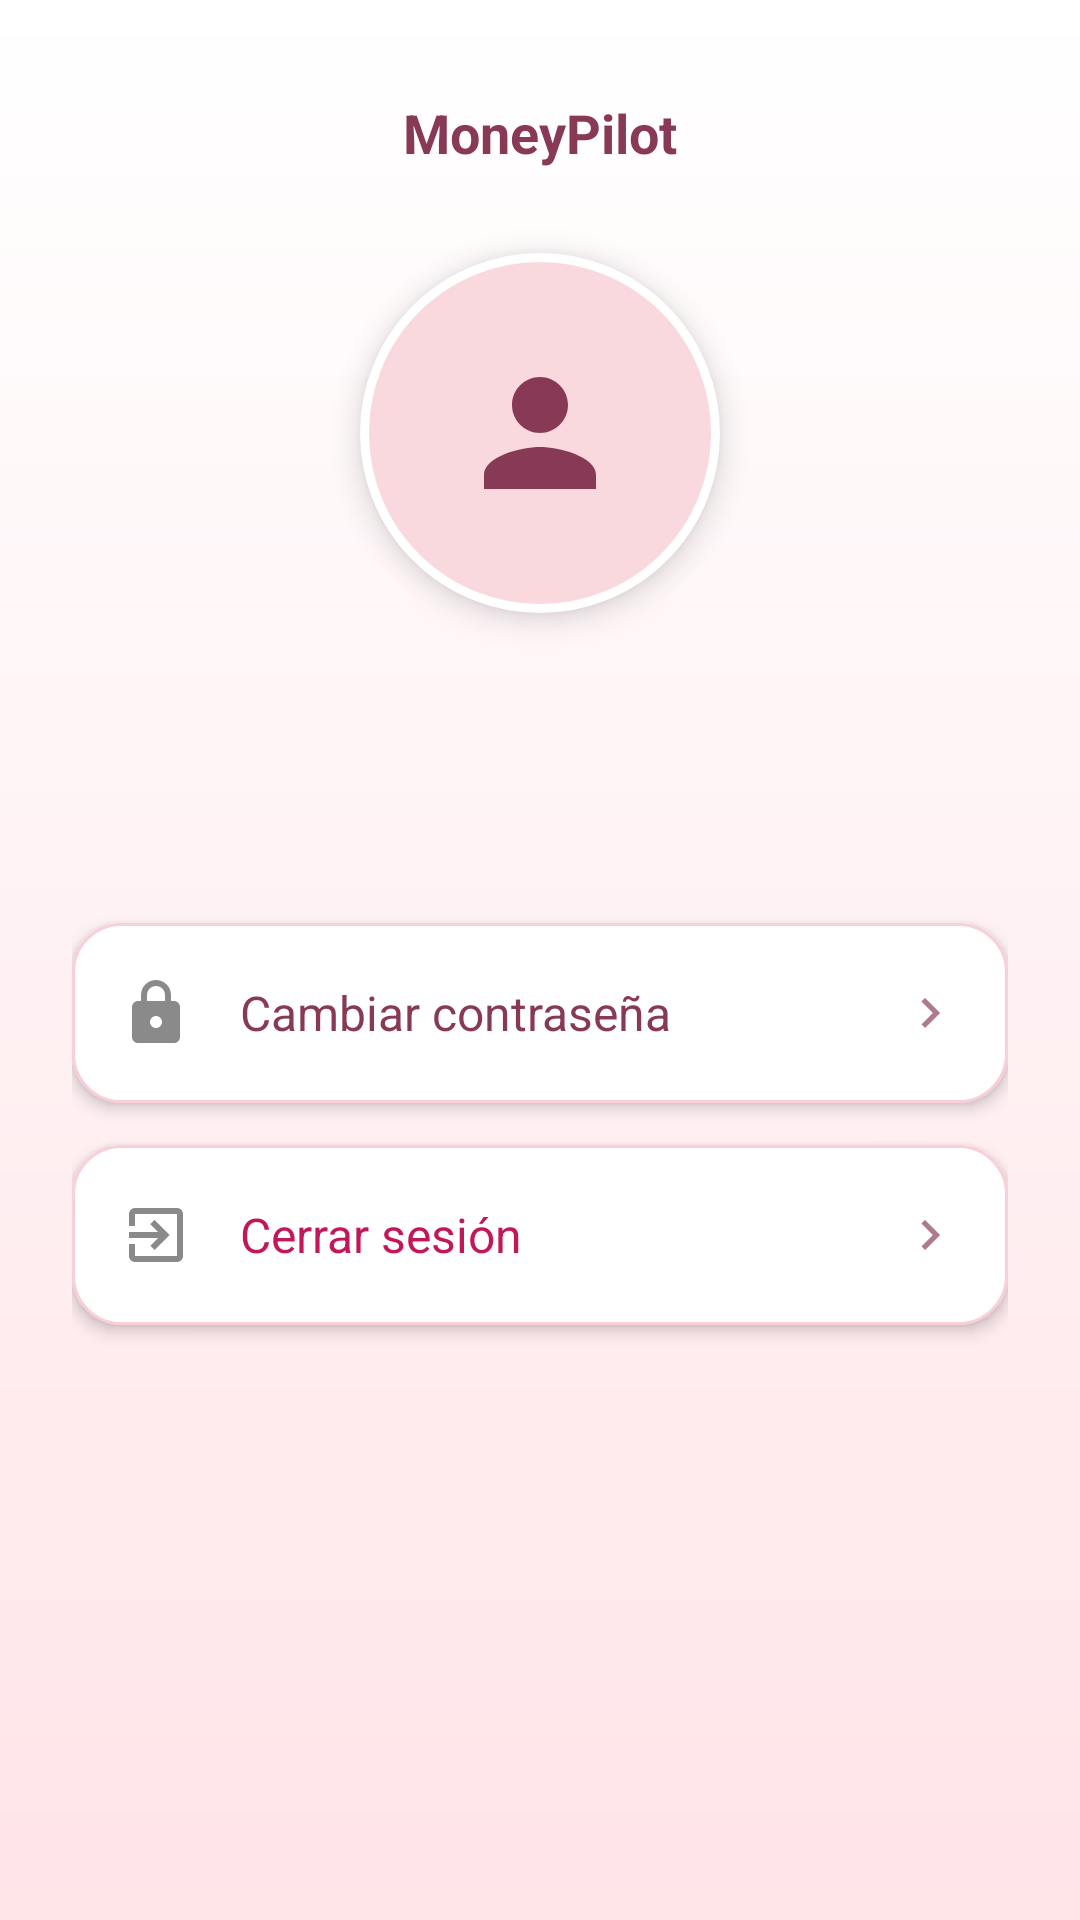

Named icons in this screenshot (1080*1920) and their bounding boxes, (x1, y1, x2, y2):
chevron: (921, 998, 940, 1028), (921, 1220, 940, 1250)
Foto de perfil: (360, 262, 720, 613)
lock: (132, 980, 180, 1043)
